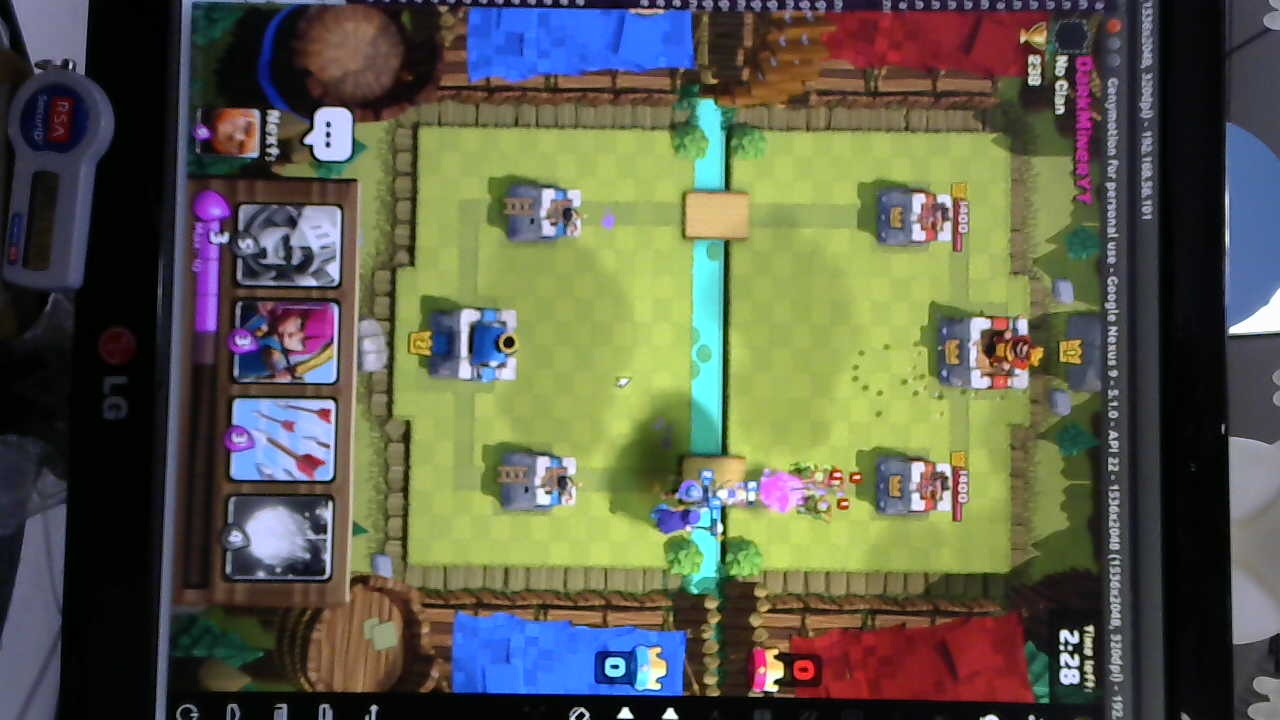arena: (499, 450, 579, 513), (509, 182, 583, 246)
earena: (872, 184, 956, 247), (879, 459, 963, 519)
eking: (937, 312, 1040, 390)
king: (429, 304, 524, 385)
musketeer: (658, 479, 706, 508)
speargoblins: (787, 459, 858, 522)
witch: (650, 504, 724, 536)
